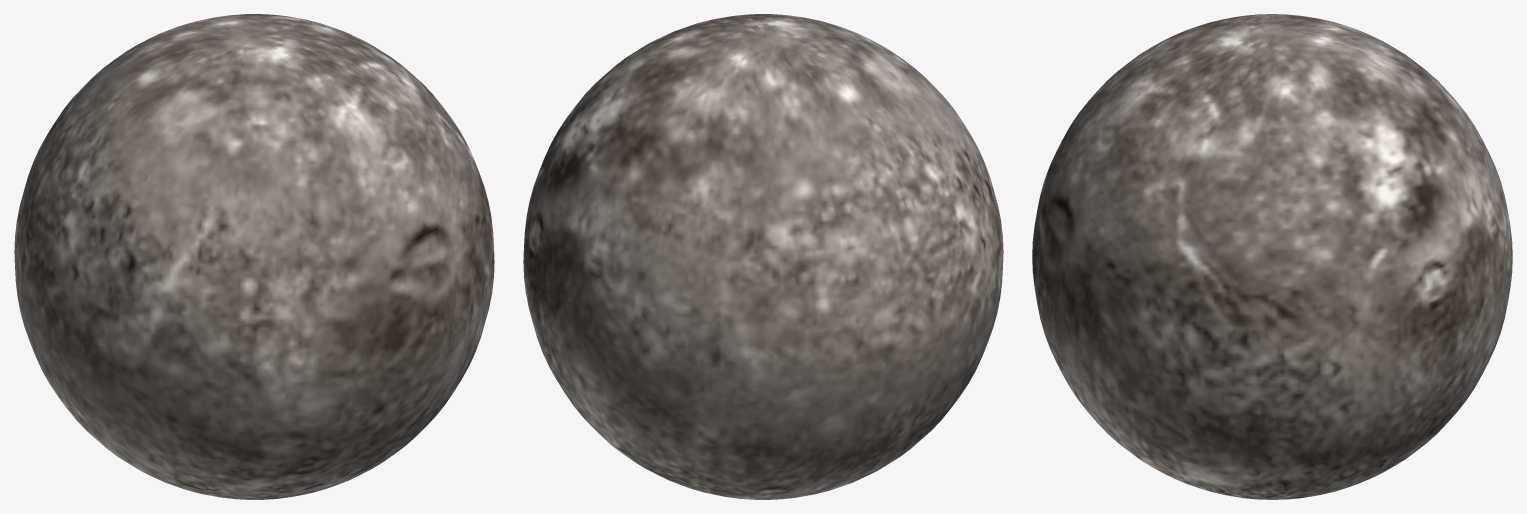
The model's file is titania.obj.
3 renders of one model, left to right at view 1: azimuth 30°, elevation 25°; view 2: azimuth 150°, elevation 25°; view 3: azimuth 270°, elevation 25°, orthographic.
Visible parts, largest first — view 1: titania; view 2: titania; view 3: titania.
Part boxes in pixels (bbox=[...]): titania: bbox=[14, 14, 494, 499]; titania: bbox=[523, 14, 1003, 499]; titania: bbox=[1032, 14, 1512, 499].
Bounding box in the file's own units: 4.92 × 4.97 × 4.92.
1 material, 1 textured.
